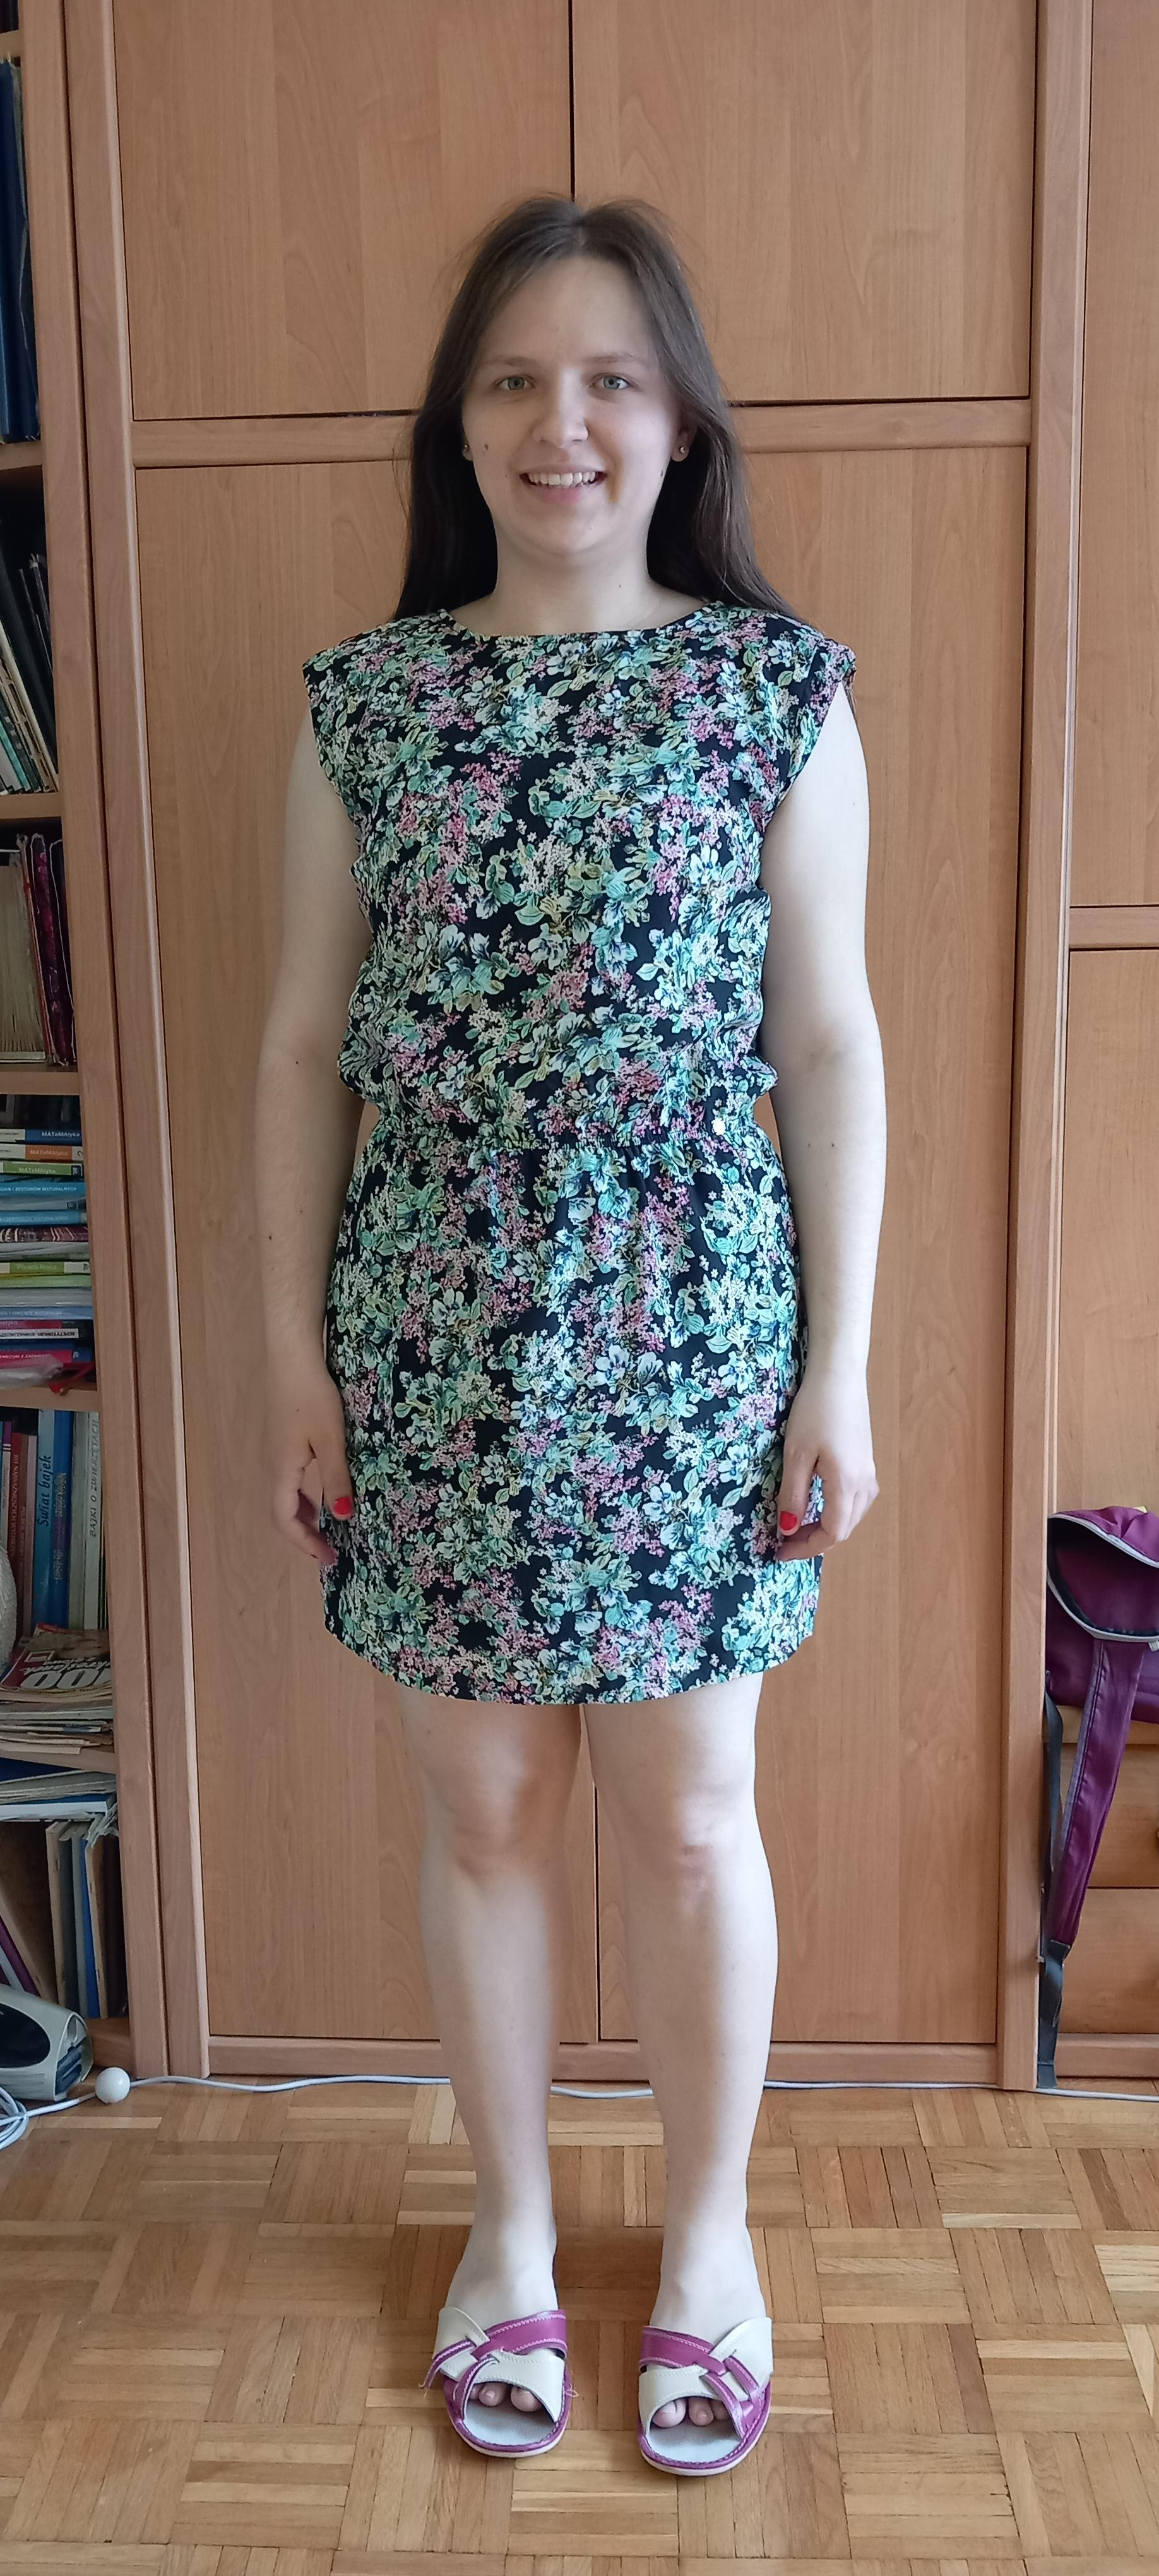dress: (300, 603, 855, 1709)
